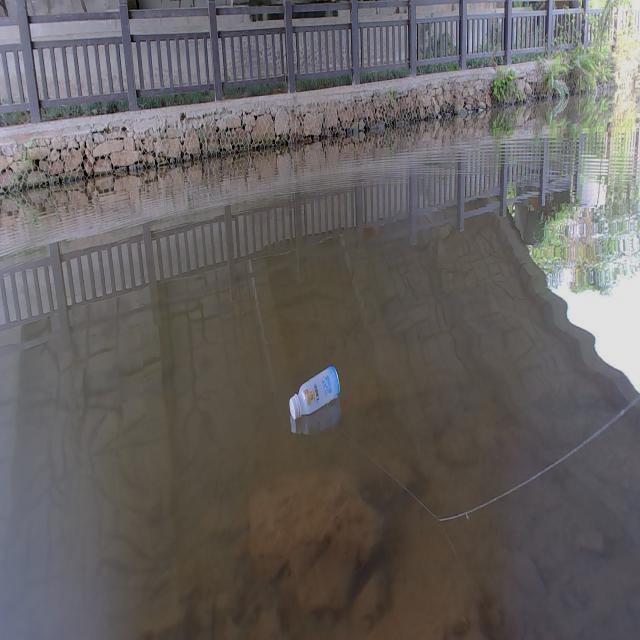bottle: (271, 343, 354, 444)
